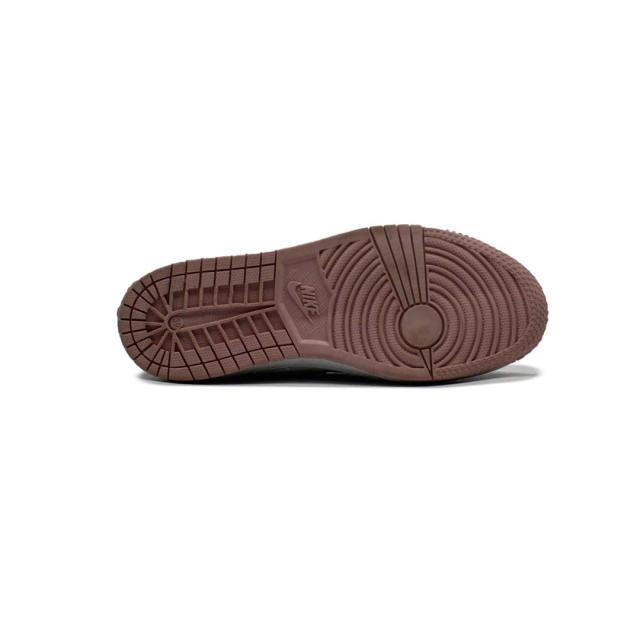outersole: (118, 222, 550, 380)
